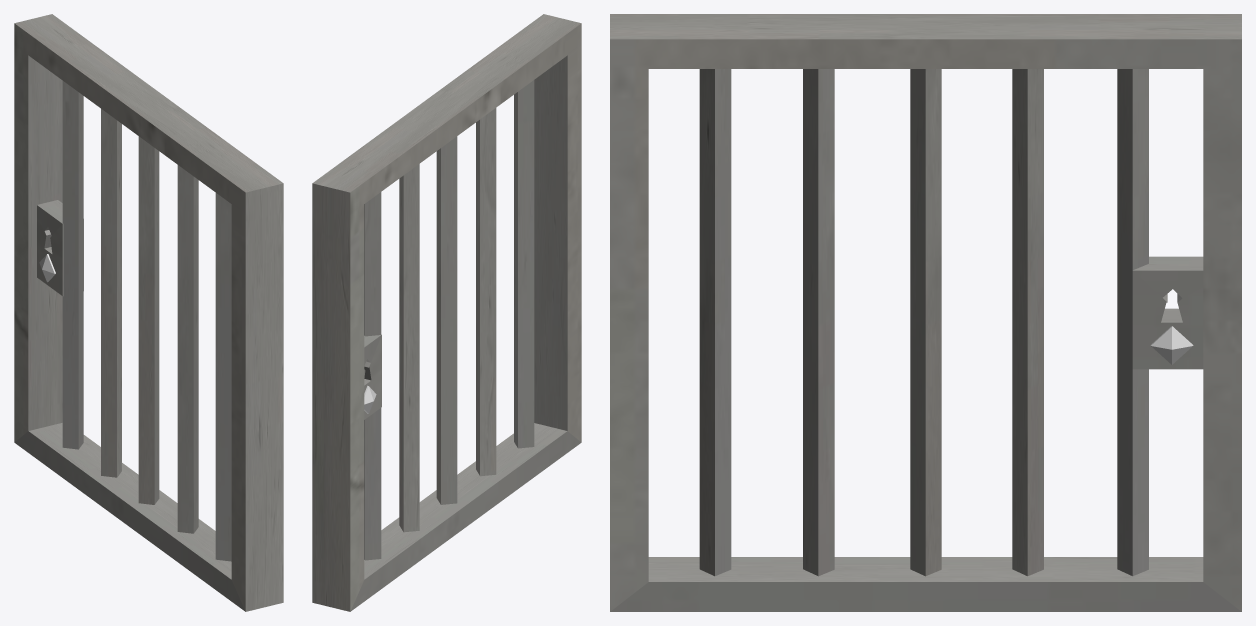
The model's file is gate.fbx.
The picture shows the model from 3 angles, left to right: view 1: azimuth 30°, elevation 25°; view 2: azimuth 150°, elevation 25°; view 3: azimuth 270°, elevation 25°; orthographic projection. The views are drawn at different scales.
Visible parts, largest first — view 1: Cube; view 2: Cube; view 3: Cube, Cube.001.
Boxes of the visible parts, x1,y1,x2,y2 form: Cube: (14,14,283,611); Cube: (312,14,581,611); Cube: (610,14,1241,611); Cube.001: (1150,326,1193,364).
Size of the model in its own units: 56.5 by 597 by 597.
